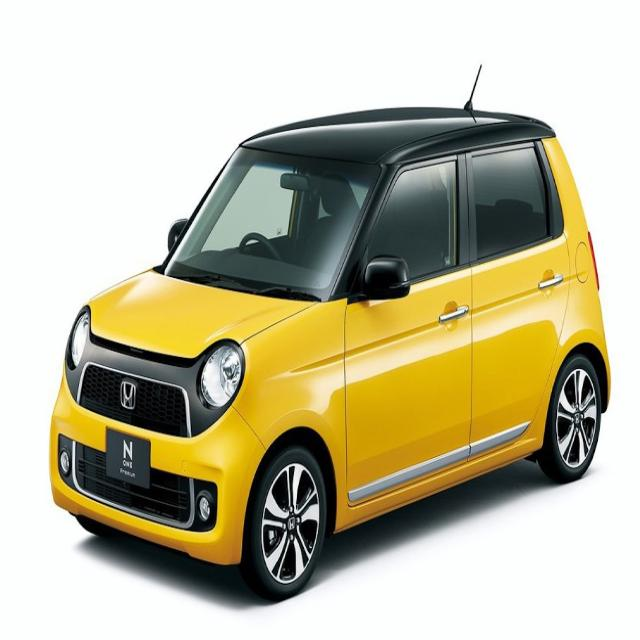door: (459, 150, 575, 449)
front_bumper: (51, 376, 266, 570)
front_glass: (162, 145, 385, 304)
front_left_side_door: (344, 152, 476, 512)
front_left_side_light: (197, 339, 246, 411)
front_left_side_mirror: (358, 256, 410, 300)
front_right_side_light: (65, 308, 91, 375)
front_right_side_mirror: (165, 212, 188, 260)
wheel: (246, 445, 328, 600), (541, 358, 602, 480)
